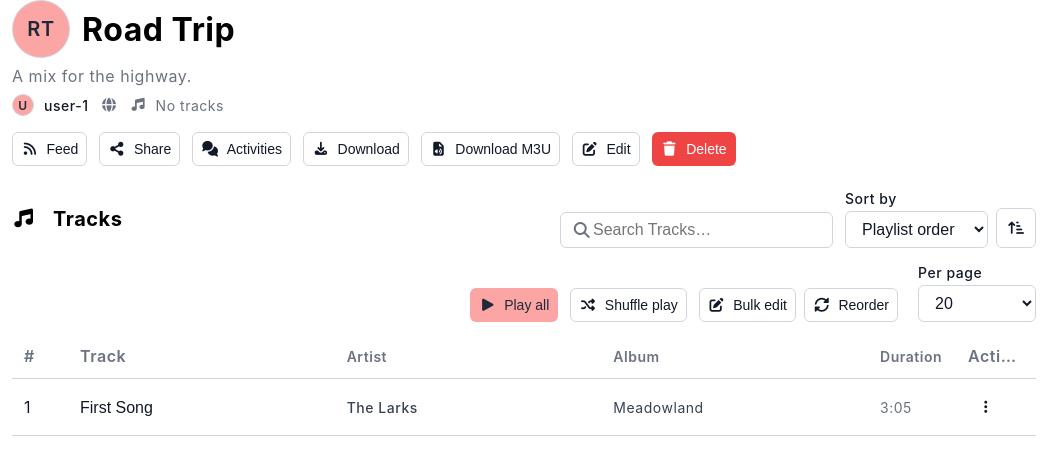
Test: PlaylistView › filters tracks by search query
Type "searched" into the search field with placeholder "Search Tracks…".
click(696, 230); type("searched")  # box [560,212,833,248]
Wait 300 ms
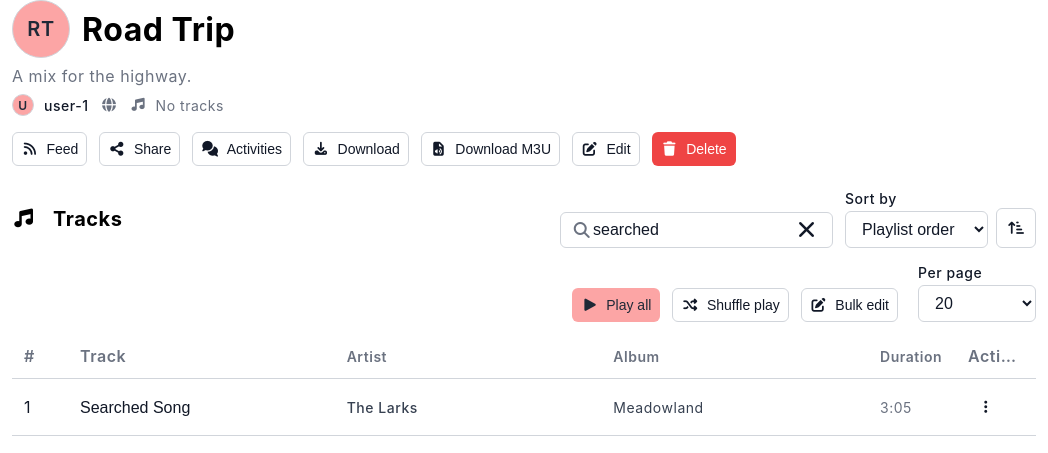
Check: the text "Searched Song" is shown, box [80,399,190,416]
Check: the text "First Song" is gone
